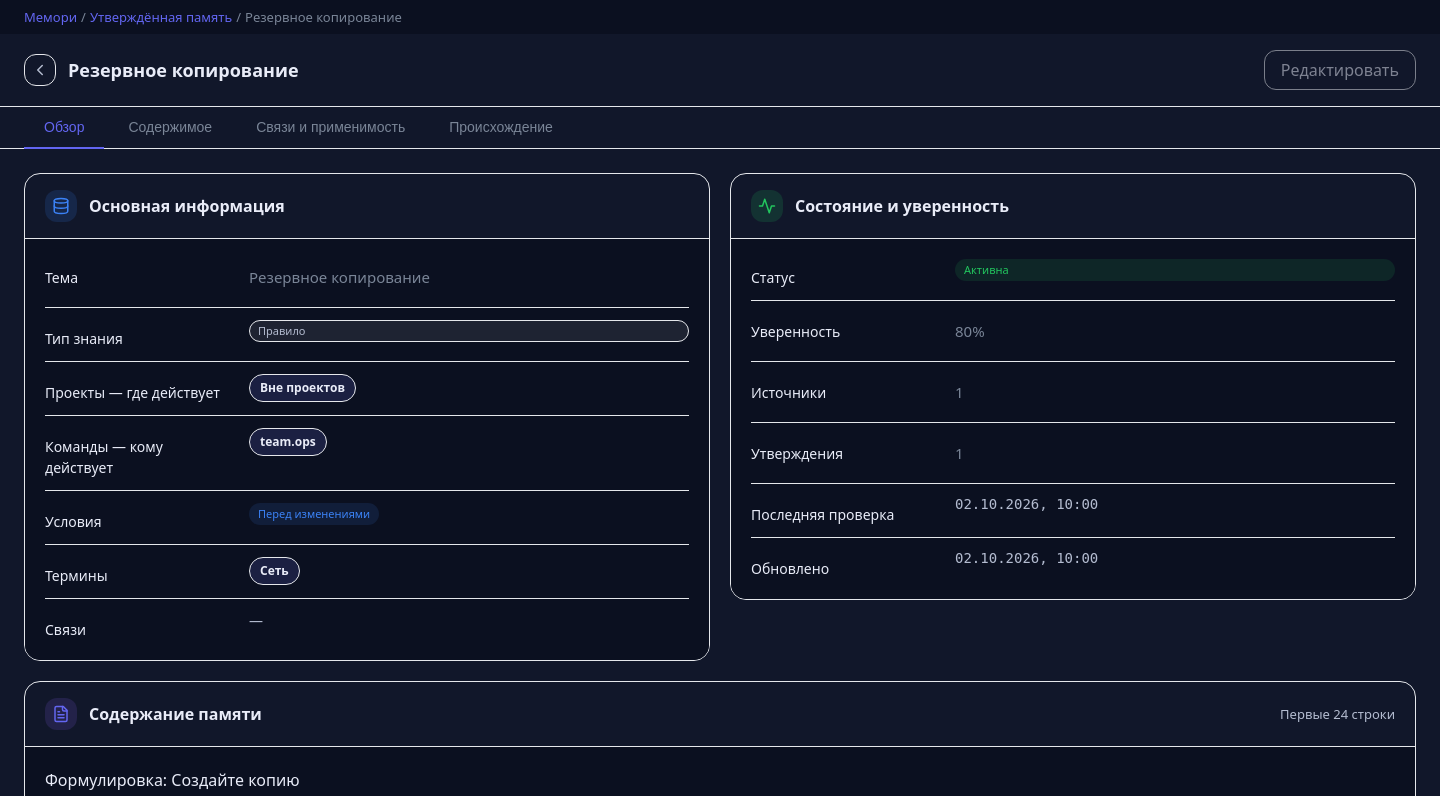
Test: Общая карточка памяти › отмена возвращает сохранённые связи и закрывает редактирование
Click the button "Связи и применимость". click: [331, 128]
box: [236, 107, 425, 149]
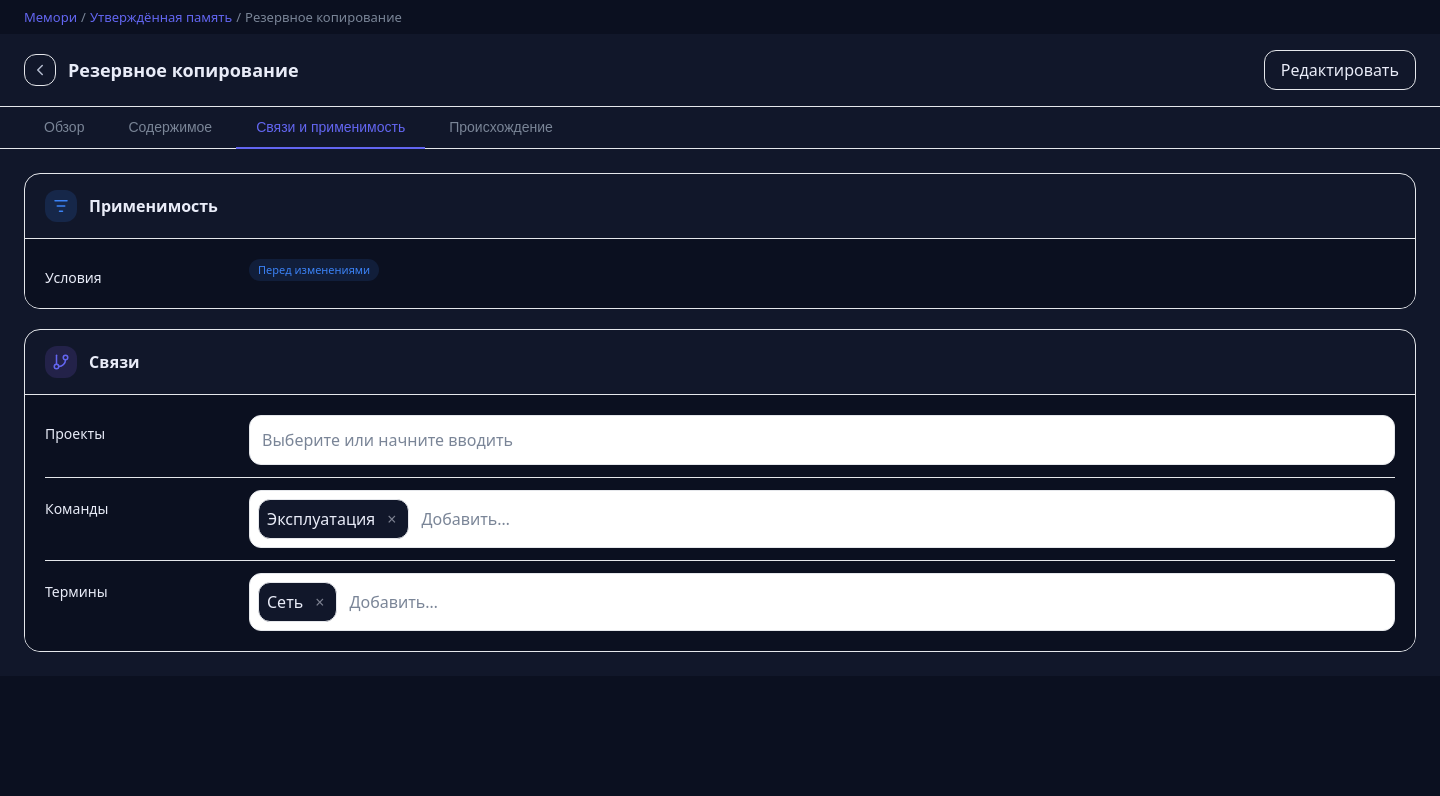
expect the button "Редактировать" is enabled: met
Click the button "Редактировать". click: [1340, 70]
box: [1264, 50, 1416, 90]
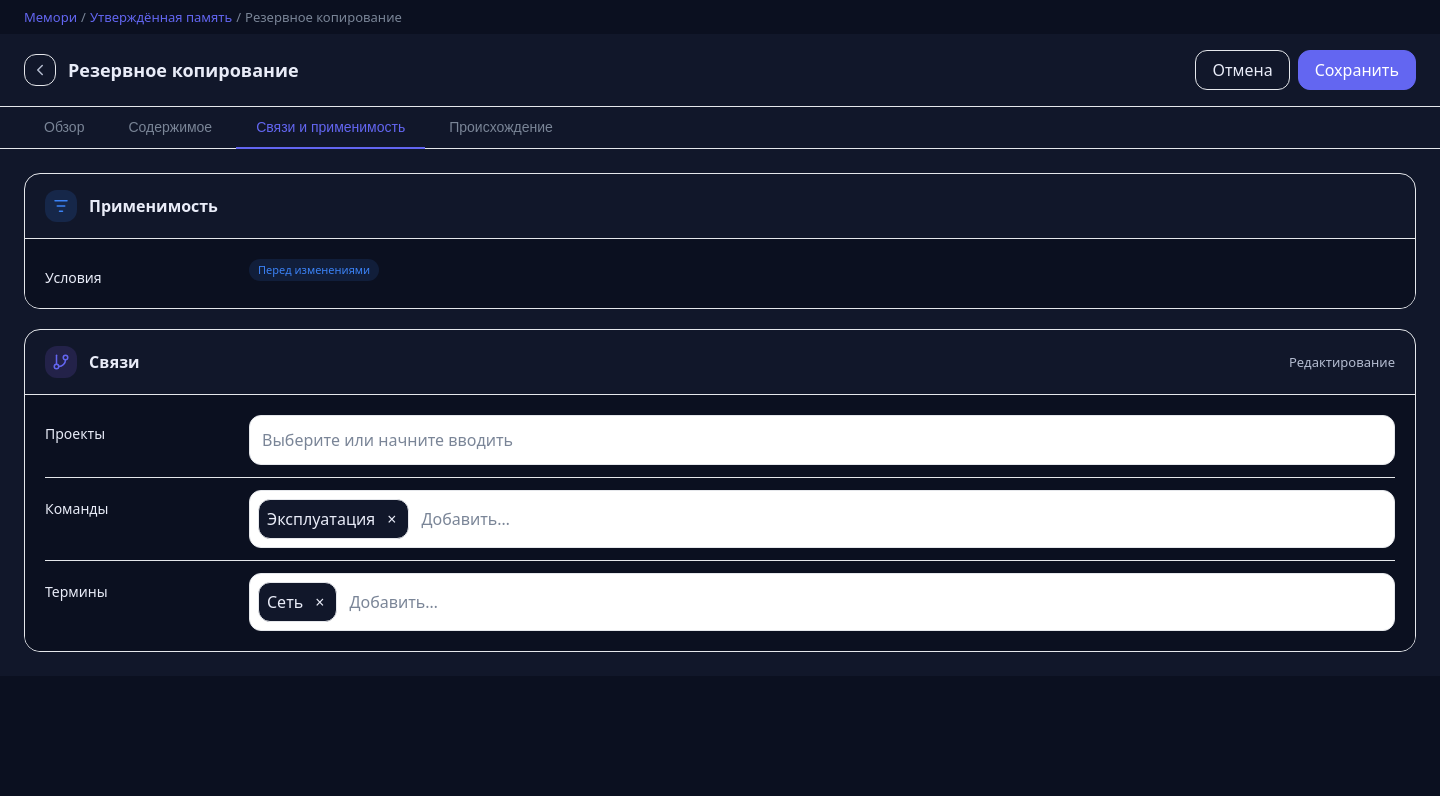
Click the button named "Убрать Сеть". click: [320, 602]
box: [311, 587, 328, 617]
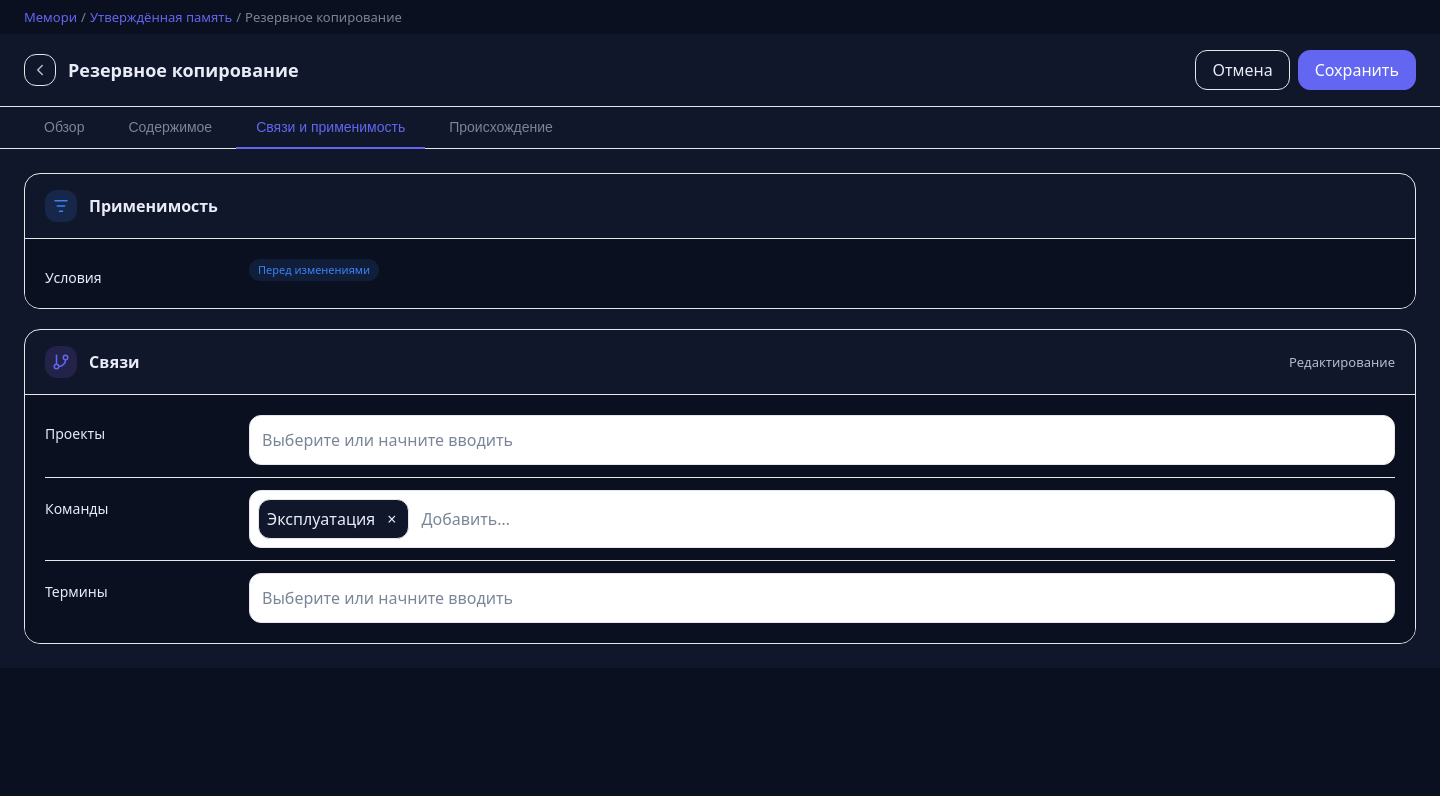
Click the button "Отмена". click: [1243, 70]
box: [1195, 50, 1290, 90]
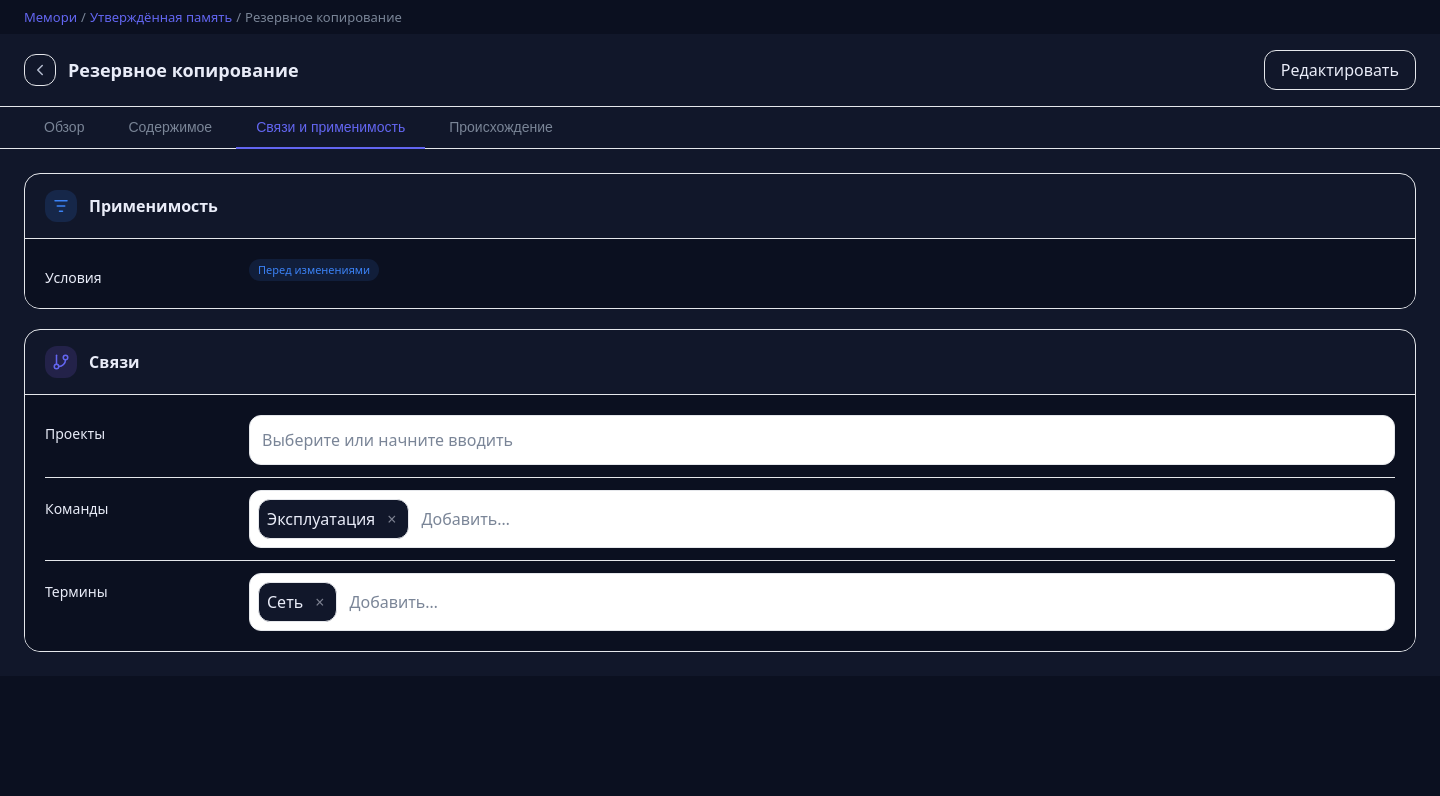
expect the text "Сеть" is shown: met, box [267, 592, 303, 613]
expect the dropdown named "Термины" is disabled: met, box [345, 586, 1386, 618]
